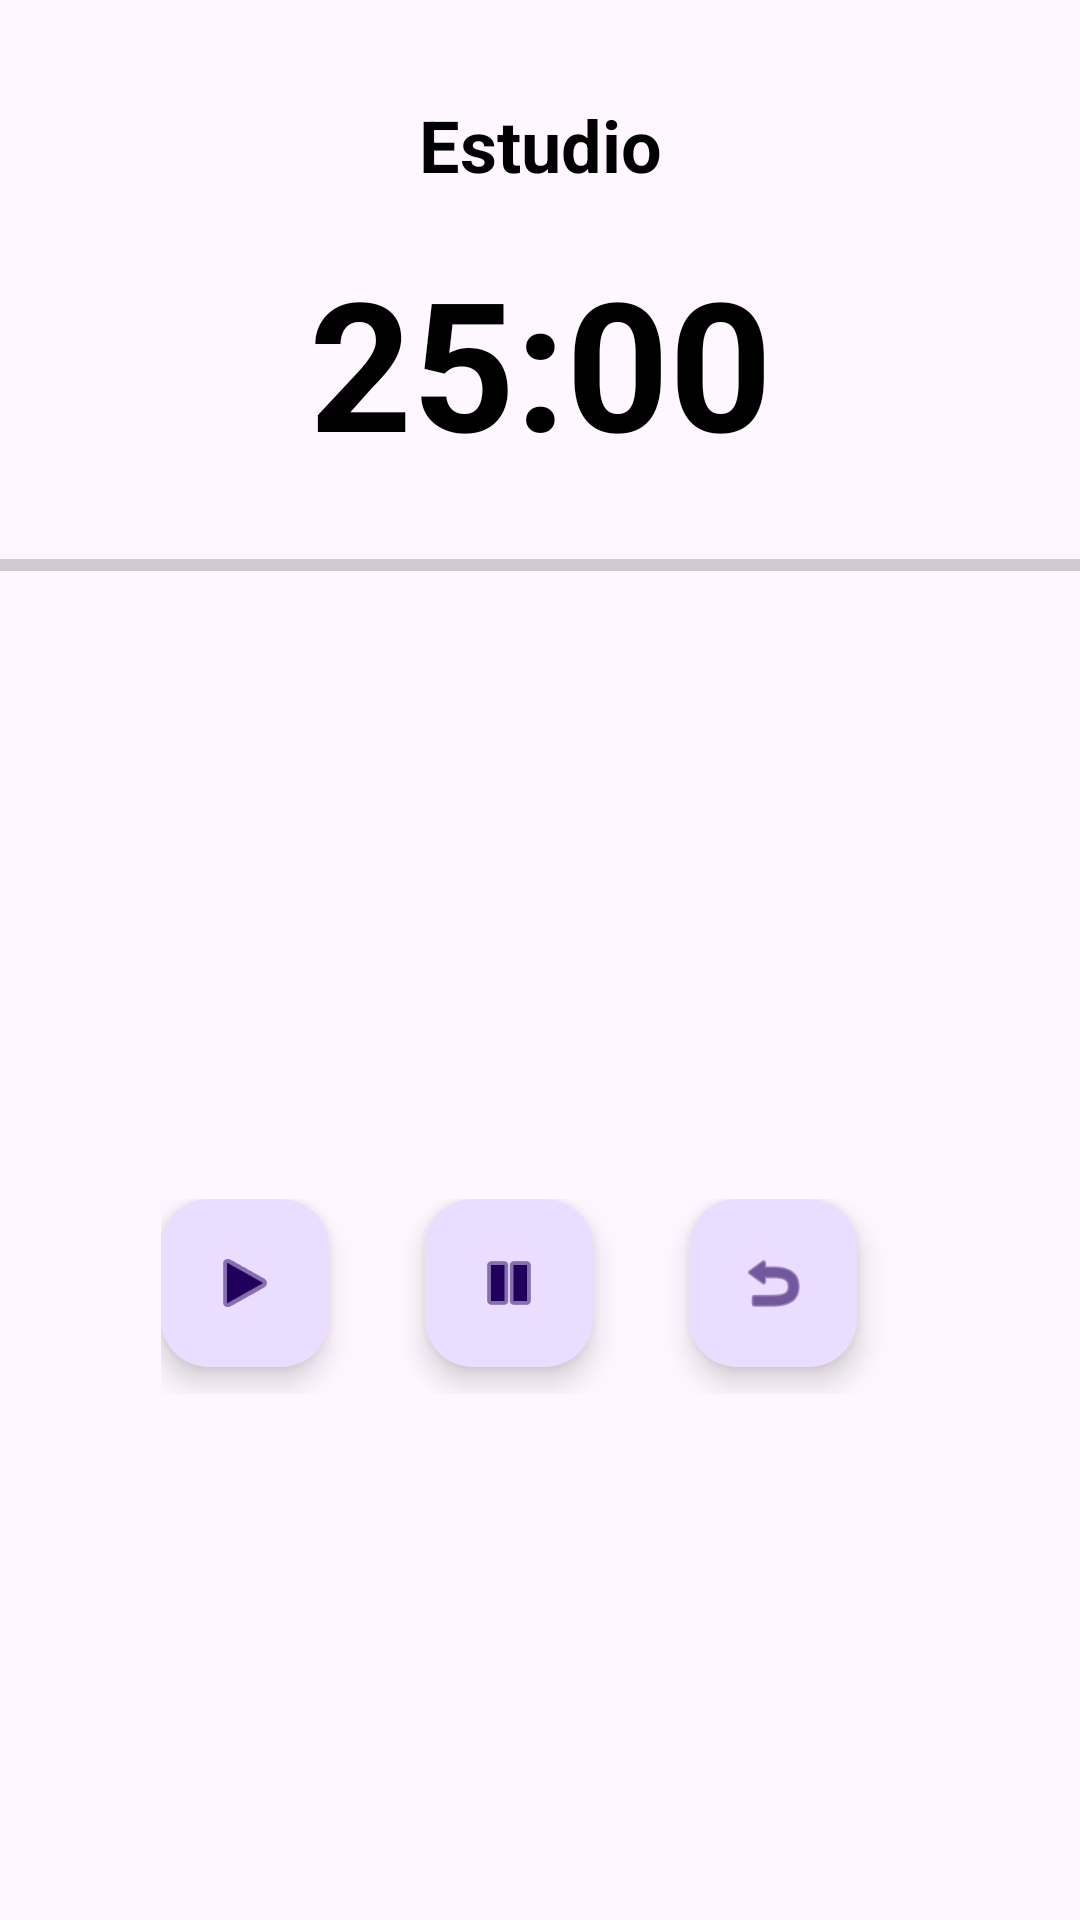

Icons on this 1080px x 1920px Android screen, each with its box as (x1, y1, x2, y2):
Pause: (425, 1199, 593, 1367)
Reset: (689, 1199, 857, 1367)
Start: (161, 1199, 329, 1367)
